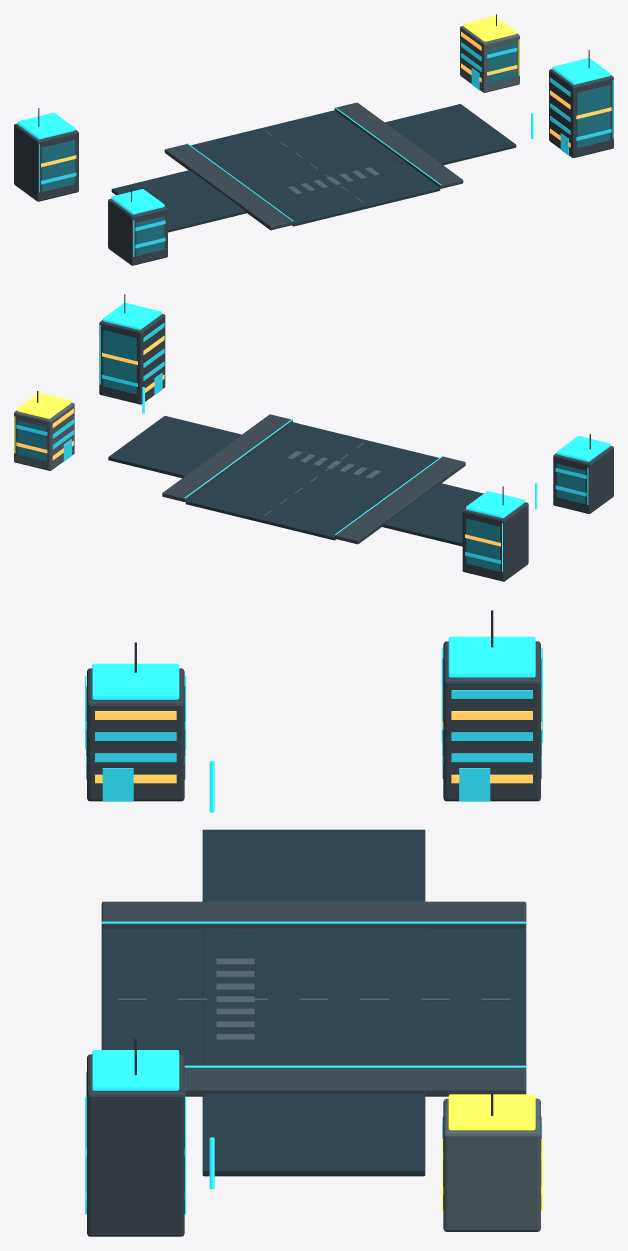
Rendered from crossroads_lod0.glb.
3 renders of one model, top to bottom at view 1: azimuth 30°, elevation 25°; view 2: azimuth 150°, elevation 25°; view 3: azimuth 270°, elevation 25°, orthographic. The views are drawn at different scales.
Parts seen in each view (by area): view 1: ND_Batch_ND_WetAsphalt, ND_Batch_ND_CityConcrete, ND_Batch_ND_RoadEdge, ND_Batch_ND_DarkGlass, ND_Batch_ND_CityCyanMuted, ND_Batch_ND_CityConcreteLight, ND_Batch_ND_NeonGlass, ND_Batch_ND_PackageGold, ND_Batch_ND_WarmWindow; view 2: ND_Batch_ND_WetAsphalt, ND_Batch_ND_CityConcrete, ND_Batch_ND_RoadEdge, ND_Batch_ND_DarkGlass, ND_Batch_ND_CityCyanMuted, ND_Batch_ND_CityConcreteLight, ND_Batch_ND_NeonGlass, ND_Batch_ND_PackageGold, ND_Batch_ND_WarmWindow; view 3: ND_Batch_ND_WetAsphalt, ND_Batch_ND_CityConcrete, ND_Batch_ND_RoadEdge, ND_Batch_ND_CityCyanMuted, ND_Batch_ND_CityConcreteLight, ND_Batch_ND_NeonGlass, ND_Batch_ND_PackageGold, ND_Batch_ND_WarmWindow, ND_Batch_ND_DarkGlass.
Part boxes in pixels (bbox=[...]): ND_Batch_ND_WetAsphalt: bbox=[111, 104, 516, 232]; ND_Batch_ND_CityConcrete: bbox=[14, 69, 613, 265]; ND_Batch_ND_RoadEdge: bbox=[164, 102, 463, 230]; ND_Batch_ND_DarkGlass: bbox=[42, 43, 610, 256]; ND_Batch_ND_CityCyanMuted: bbox=[17, 58, 613, 256]; ND_Batch_ND_CityConcreteLight: bbox=[264, 26, 519, 202]; ND_Batch_ND_NeonGlass: bbox=[41, 42, 611, 248]; ND_Batch_ND_PackageGold: bbox=[463, 16, 519, 75]; ND_Batch_ND_WarmWindow: bbox=[41, 31, 611, 167]; ND_Batch_ND_WetAsphalt: bbox=[108, 416, 483, 546]; ND_Batch_ND_CityConcrete: bbox=[99, 314, 613, 581]; ND_Batch_ND_RoadEdge: bbox=[162, 414, 465, 544]; ND_Batch_ND_DarkGlass: bbox=[17, 330, 585, 571]; ND_Batch_ND_CityCyanMuted: bbox=[99, 302, 610, 571]; ND_Batch_ND_CityConcreteLight: bbox=[14, 402, 380, 516]; ND_Batch_ND_NeonGlass: bbox=[16, 323, 586, 563]; ND_Batch_ND_PackageGold: bbox=[14, 392, 71, 453]; ND_Batch_ND_WarmWindow: bbox=[16, 336, 500, 546]; ND_Batch_ND_WetAsphalt: bbox=[101, 829, 526, 1176]; ND_Batch_ND_CityConcrete: bbox=[87, 641, 540, 1236]; ND_Batch_ND_RoadEdge: bbox=[101, 901, 526, 1096]; ND_Batch_ND_CityCyanMuted: bbox=[85, 636, 542, 1214]; ND_Batch_ND_CityConcreteLight: bbox=[117, 958, 540, 1231]; ND_Batch_ND_NeonGlass: bbox=[86, 690, 541, 1199]; ND_Batch_ND_PackageGold: bbox=[441, 1094, 542, 1212]; ND_Batch_ND_WarmWindow: bbox=[86, 689, 541, 1194]; ND_Batch_ND_DarkGlass: bbox=[86, 658, 541, 1213].
Size of the model in its own units: 53.1 by 10.03 by 21.58.
